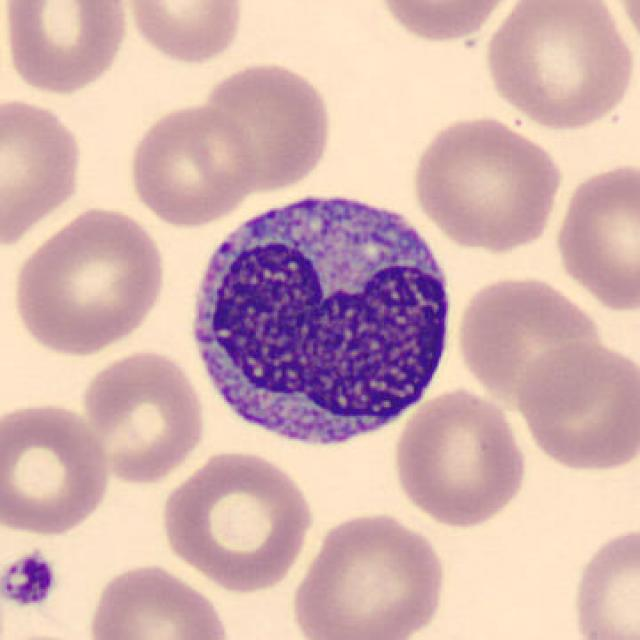Monocyte: (178, 176, 460, 460)
Platelets: (0, 550, 59, 610)
RBC: (7, 203, 169, 358), (156, 446, 316, 592), (407, 111, 565, 254), (288, 508, 450, 640), (452, 272, 608, 408), (389, 384, 532, 529), (480, 0, 636, 132), (196, 56, 336, 192), (76, 347, 208, 487), (512, 337, 638, 476), (124, 100, 260, 228), (0, 396, 114, 540), (0, 92, 87, 252), (551, 157, 638, 316), (0, 0, 133, 98), (83, 559, 233, 640), (567, 522, 640, 640), (121, 0, 247, 67), (370, 0, 524, 44), (604, 0, 640, 55)
